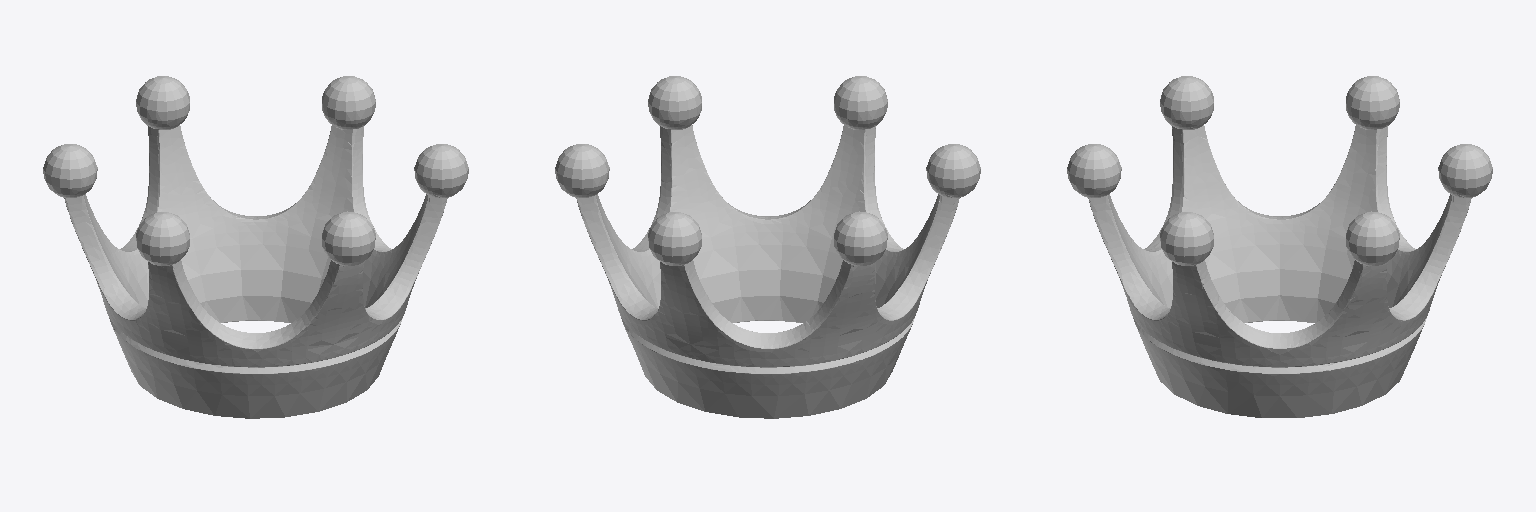
Rendered from Funko_Crown.obj.
3 renders of one model, left to right at view 1: azimuth 30°, elevation 25°; view 2: azimuth 150°, elevation 25°; view 3: azimuth 270°, elevation 25°, orthographic.
Size of the model in its own units: 1 by 0.6457 by 1.13.